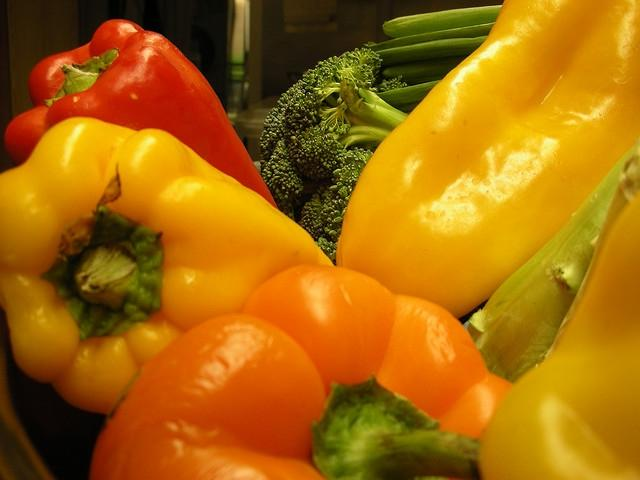bell pepper: (1, 116, 335, 416), (337, 0, 640, 319), (89, 262, 514, 478), (476, 150, 640, 480), (5, 19, 280, 210)
broccoli: (258, 48, 409, 262), (378, 75, 412, 92)
